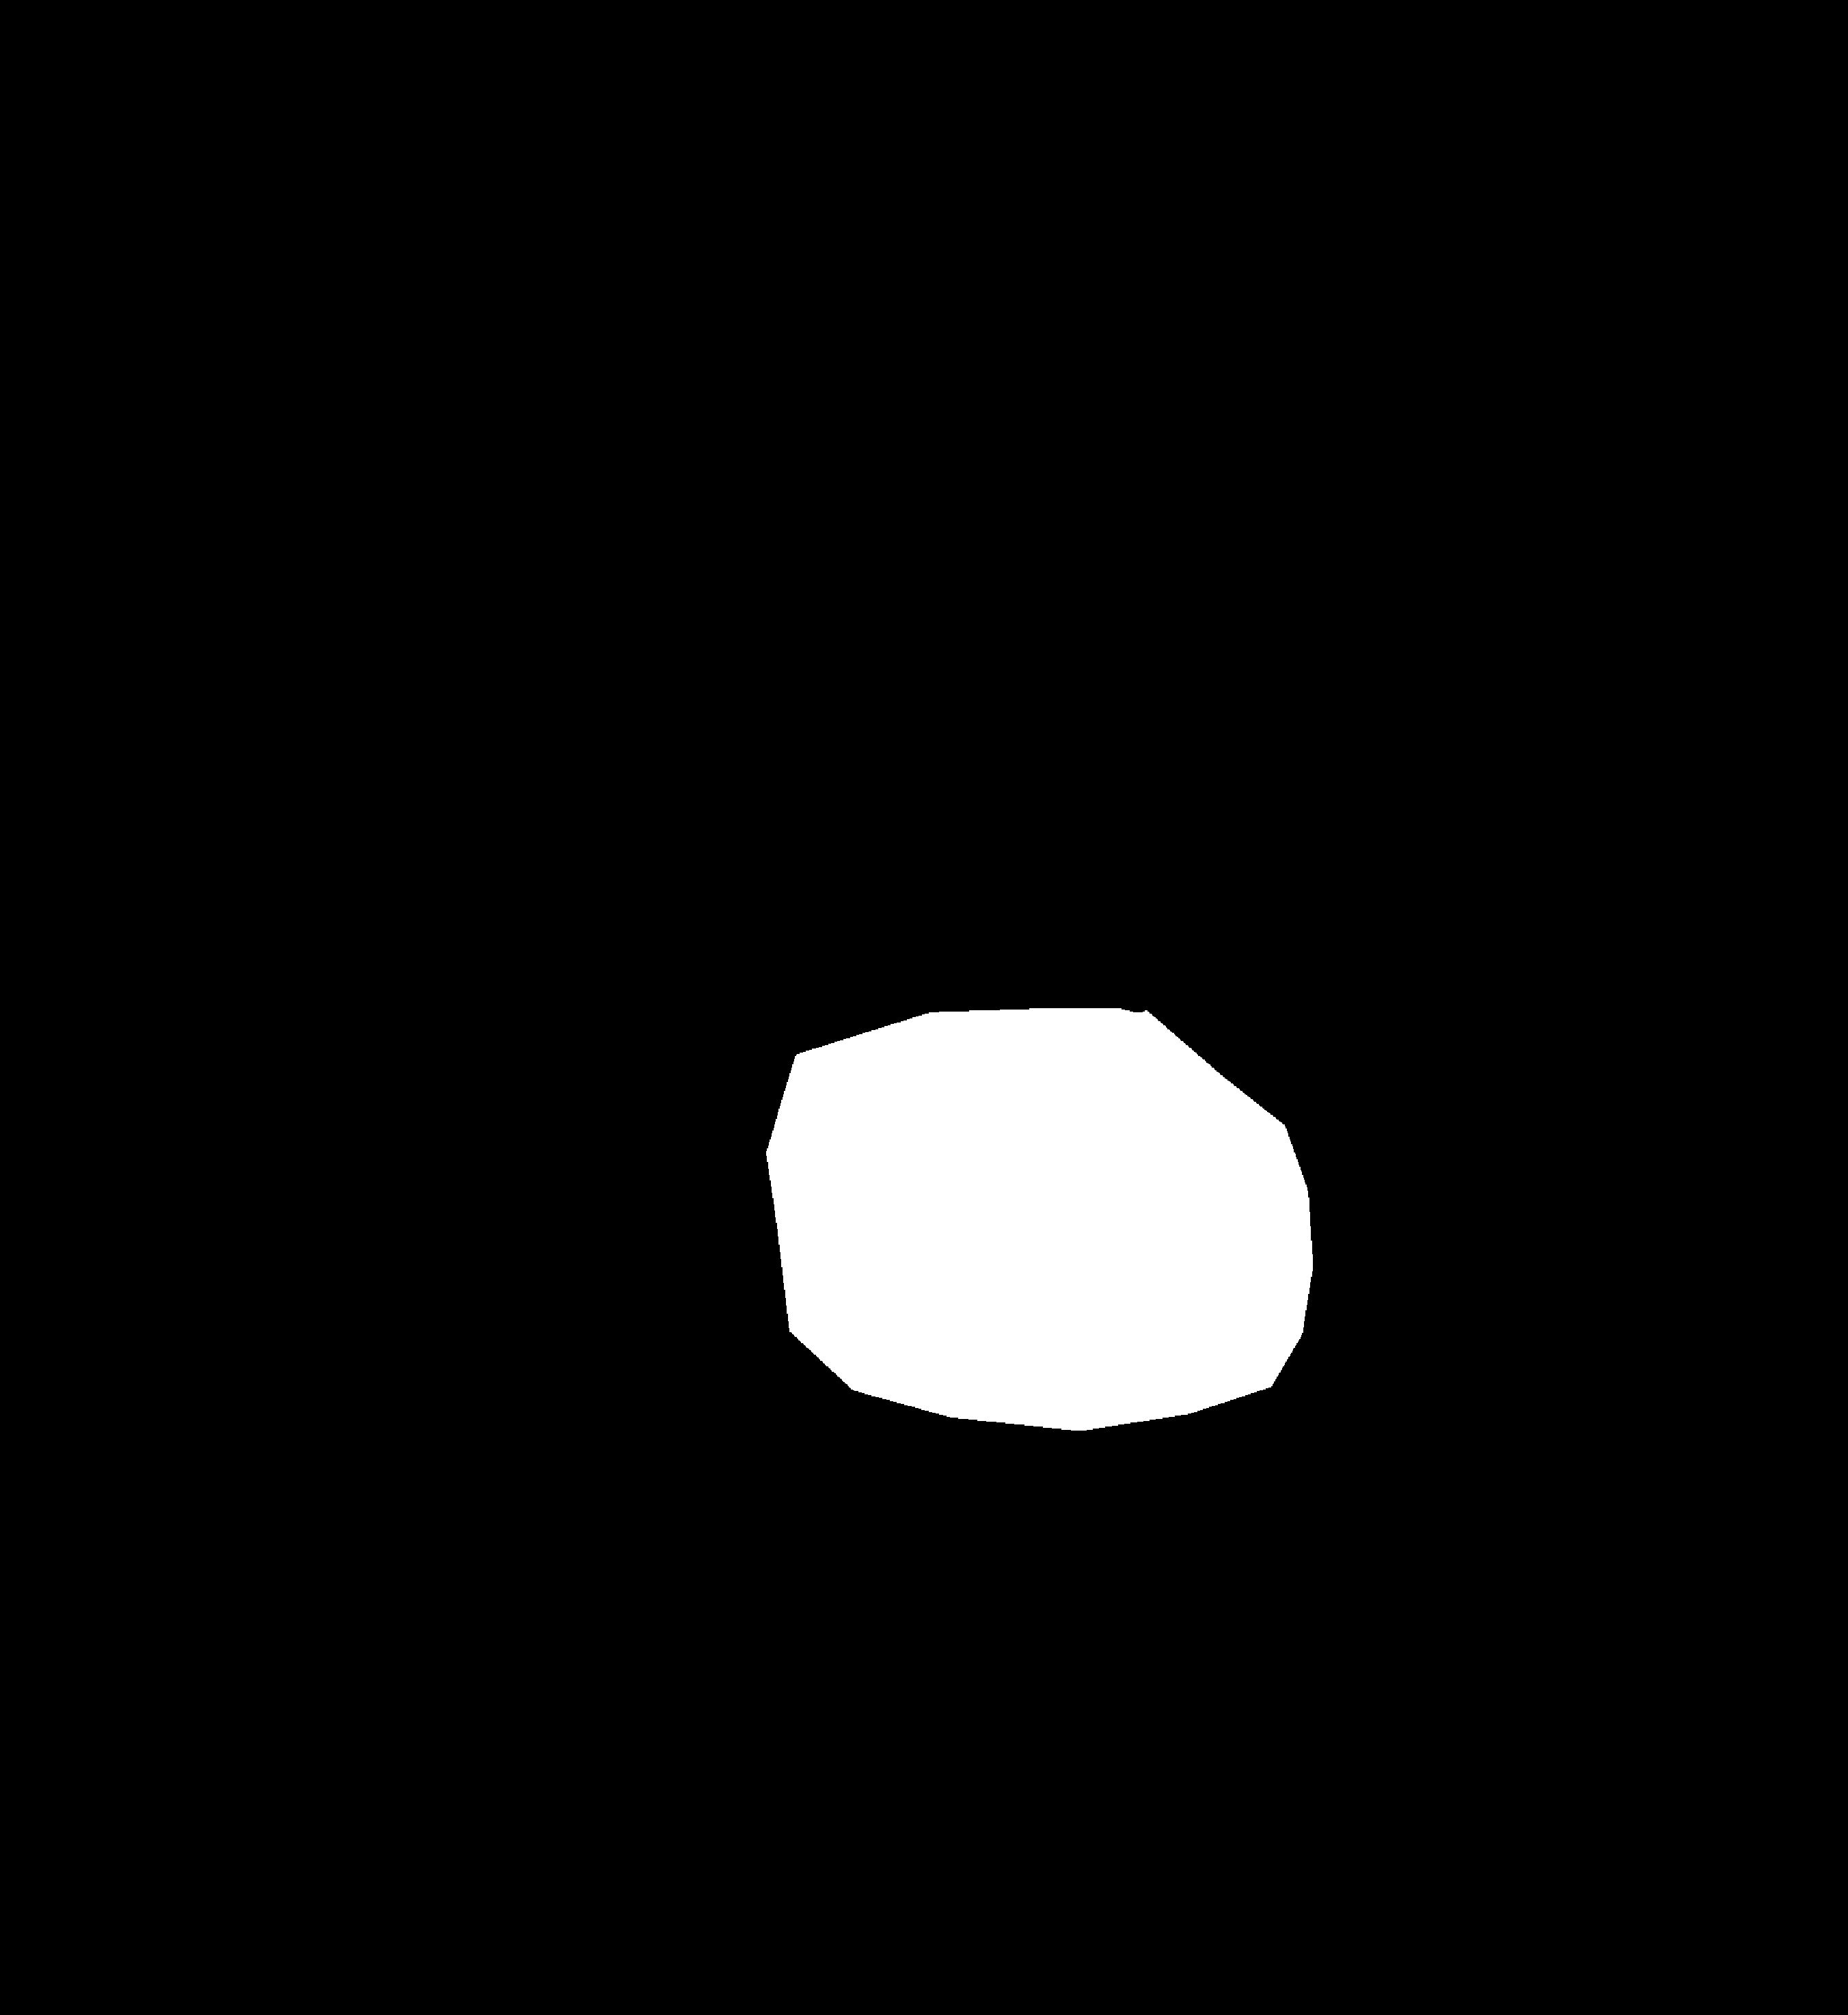heart: (769, 1041, 1316, 1485)
left_lung: (298, 318, 832, 1611)
right_lung: (1014, 263, 1641, 1576)
